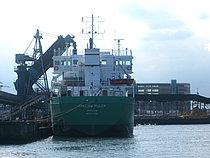Ship: (48, 14, 141, 141)
